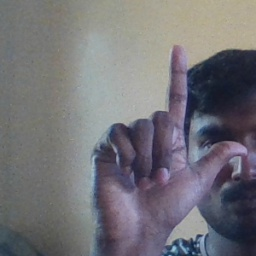L: (85, 40, 251, 241)
